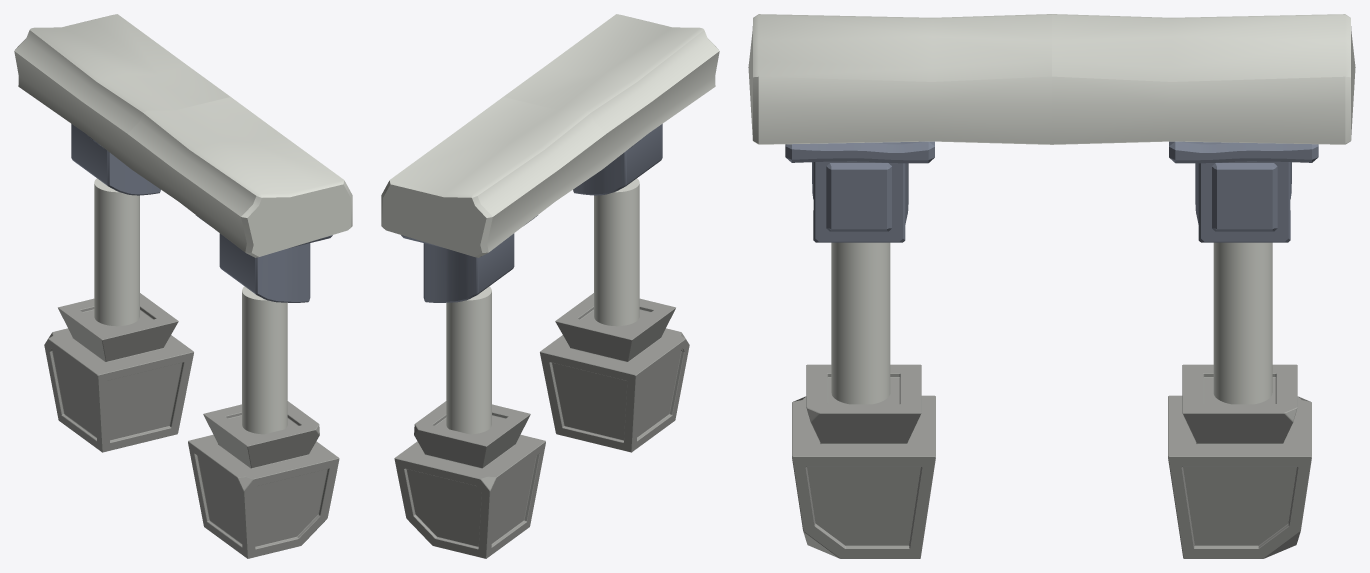
File: spawnPointModel.fbx
3 renders of one model, left to right at view 1: azimuth 30°, elevation 25°; view 2: azimuth 150°, elevation 25°; view 3: azimuth 270°, elevation 25°, orthographic. The views are drawn at different scales.
Visible parts, largest first — view 1: top, base, connector, stone.001; view 2: top, base, connector, stone.001; view 3: top, base, connector, stone.001, stone.
Boxes of the visible parts, x1,y1,x2,y2 form: top: [14, 14, 352, 257]; base: [44, 293, 339, 558]; connector: [94, 178, 287, 434]; stone.001: [71, 124, 310, 302]; top: [381, 14, 719, 257]; base: [394, 293, 689, 558]; connector: [446, 178, 639, 434]; stone.001: [423, 124, 662, 302]; top: [748, 14, 1355, 144]; base: [792, 364, 1311, 558]; connector: [831, 242, 1272, 404]; stone.001: [812, 161, 1291, 242]; stone: [785, 141, 1318, 163].
Bounding box in the file's own units: 231 × 752 × 841.
